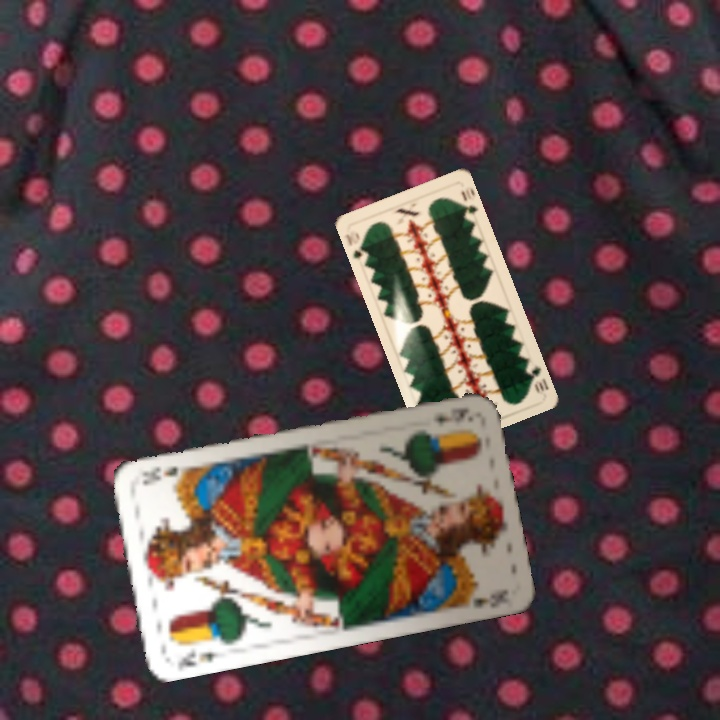EK: (174, 644, 225, 669), (430, 403, 473, 427)
G10: (522, 358, 551, 396), (341, 228, 365, 261)
